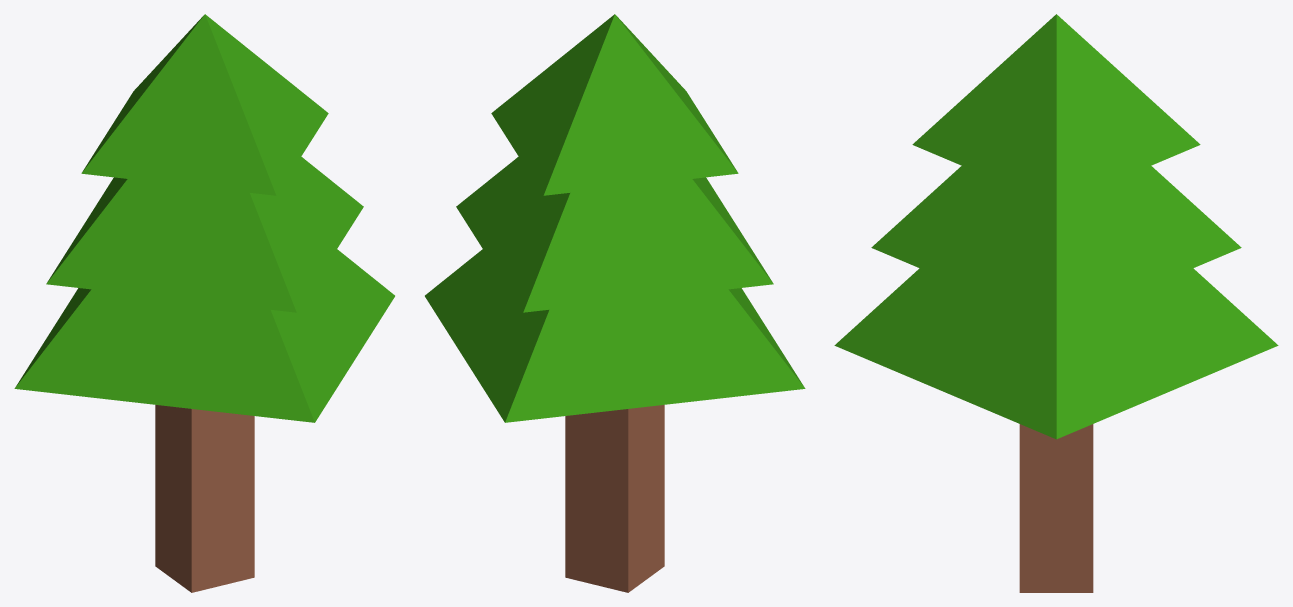
Rendered from tree.fbx.
3 renders of one model, left to right at view 1: azimuth 30°, elevation 25°; view 2: azimuth 150°, elevation 25°; view 3: azimuth 270°, elevation 25°, orthographic.
Parts seen in each view (by area): view 1: Cone, Cone.001, Cone.002, Cube; view 2: Cone, Cone.001, Cone.002, Cube; view 3: Cone, Cone.001, Cone.002, Cube.
Boxes of the visible parts, bbox=[...] form: Cone: bbox=[14, 249, 394, 422]; Cone.001: bbox=[46, 156, 363, 312]; Cone.002: bbox=[81, 14, 328, 195]; Cube: bbox=[155, 405, 254, 592]; Cone: bbox=[425, 249, 805, 422]; Cone.001: bbox=[456, 156, 773, 312]; Cone.002: bbox=[491, 14, 738, 195]; Cube: bbox=[565, 405, 664, 592]; Cone: bbox=[834, 268, 1278, 439]; Cone.001: bbox=[871, 166, 1241, 325]; Cone.002: bbox=[912, 14, 1200, 205]; Cube: bbox=[1019, 424, 1093, 592].
Size of the model in its own units: 110 by 154 by 110.
